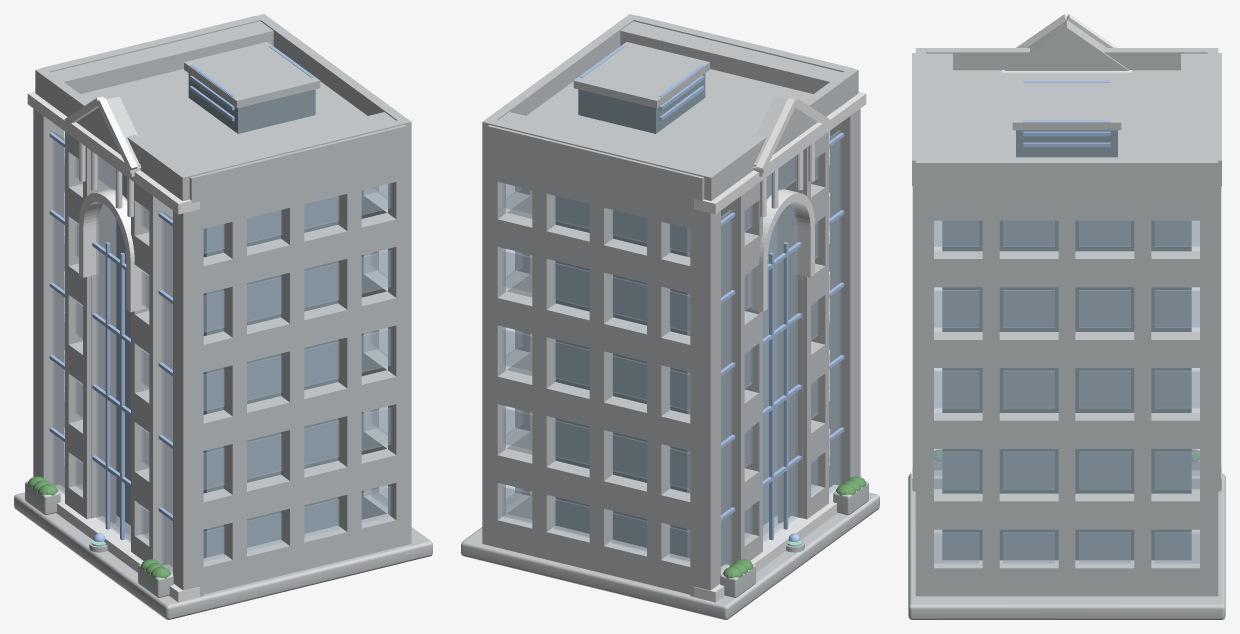
File: central-library.glb
The picture shows the model from 3 angles, left to right: view 1: azimuth 30°, elevation 25°; view 2: azimuth 150°, elevation 25°; view 3: azimuth 270°, elevation 25°; orthographic projection. The views are drawn at different scales.
Parts seen in each view (by area): view 1: Library internal book stacks, Library corner pilaster.001, Library roof slab, Library raised roof shoulder.001, Library corner pilaster, Library forecourt plinth, Library reading rooms xp facade pier.003, Library reading rooms xp facade pier.002, Library Gate to Knowledge arched glazing, Library reading rooms xp facade pier.001, Library deep pier return.001, Library reading rooms xp flush spandrel.001 (+71 smaller); view 2: Library internal book stacks, Library corner pilaster, Library corner pilaster.001, Library roof slab, Library raised roof shoulder, Library forecourt plinth, Library reading rooms xn facade pier.002, Library reading rooms xn facade pier.003, Library Gate to Knowledge arched glazing, Library deep pier return.002, Library reading rooms xn facade pier.001, Library reading rooms xn flush spandrel.002 (+66 smaller); view 3: Library internal book stacks, Library roof slab, Library forecourt plinth, Library reading rooms zn flush spandrel.004, Library reading rooms zn flush spandrel.001, Library reading rooms zn flush spandrel, Library reading rooms zn flush spandrel.002, Library reading rooms zn flush spandrel.003, Library reading rooms xn facade pier, Library reading rooms zn facade pier.003, Library reading rooms zn facade pier.002, Library reading rooms zn flush spandrel.005 (+39 smaller).
Part boxes in pixels (bbox=[...]): Library internal book stacks: bbox=[116, 174, 338, 558]; Library corner pilaster.001: bbox=[173, 200, 203, 596]; Library roof slab: bbox=[35, 69, 411, 201]; Library raised roof shoulder.001: bbox=[175, 112, 406, 203]; Library corner pilaster: bbox=[33, 108, 63, 483]; Library forecourt plinth: bbox=[14, 492, 432, 619]; Library reading rooms xp facade pier.003: bbox=[338, 163, 361, 559]; Library reading rooms xp facade pier.002: bbox=[281, 177, 304, 572]; Library Gate to Knowledge arched glazing: bbox=[96, 203, 130, 542]; Library reading rooms xp facade pier.001: bbox=[223, 191, 246, 583]; Library deep pier return.001: bbox=[91, 156, 116, 523]; Library reading rooms xp flush spandrel.001: bbox=[203, 448, 396, 529]; Library internal book stacks: bbox=[555, 174, 777, 558]; Library corner pilaster: bbox=[690, 200, 720, 596]; Library corner pilaster.001: bbox=[830, 108, 860, 486]; Library roof slab: bbox=[482, 69, 858, 201]; Library raised roof shoulder: bbox=[487, 112, 718, 201]; Library forecourt plinth: bbox=[461, 492, 879, 619]; Library reading rooms xn facade pier.002: bbox=[589, 177, 612, 573]; Library reading rooms xn facade pier.003: bbox=[647, 191, 670, 587]; Library Gate to Knowledge arched glazing: bbox=[763, 203, 797, 542]; Library deep pier return.002: bbox=[777, 156, 802, 523]; Library reading rooms xn facade pier.001: bbox=[532, 163, 555, 540]; Library reading rooms xn flush spandrel.002: bbox=[482, 370, 690, 450]; Library internal book stacks: bbox=[942, 220, 1191, 560]; Library roof slab: bbox=[915, 70, 1218, 192]; Library forecourt plinth: bbox=[908, 473, 1225, 619]; Library reading rooms zn flush spandrel.004: bbox=[915, 251, 1199, 287]; Library reading rooms zn flush spandrel.001: bbox=[915, 493, 1199, 529]; Library reading rooms zn flush spandrel: bbox=[915, 560, 1199, 596]; Library reading rooms zn flush spandrel.002: bbox=[915, 413, 1199, 448]; Library reading rooms zn flush spandrel.003: bbox=[915, 332, 1199, 367]; Library reading rooms xn facade pier: bbox=[1200, 192, 1218, 596]; Library reading rooms zn facade pier.003: bbox=[1134, 192, 1151, 596]; Library reading rooms zn facade pier.002: bbox=[1058, 192, 1075, 596]; Library reading rooms zn flush spandrel.005: bbox=[915, 192, 1199, 220].
Bounding box in the file's own units: 2.24 × 3.72 × 2.24.
